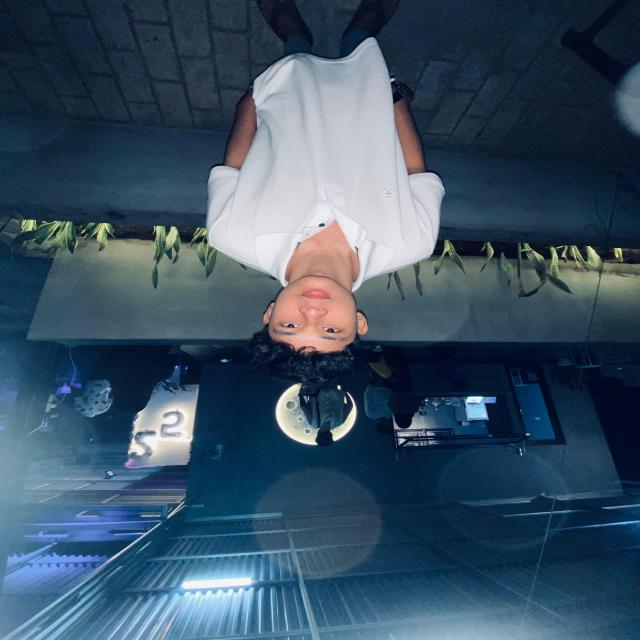nohelmet: (242, 276, 372, 384)
